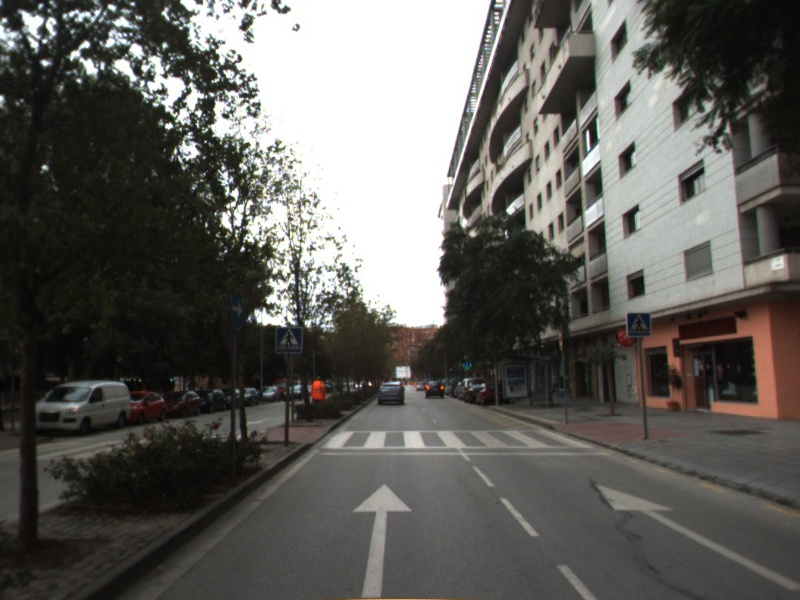STRAIGHT: (590, 480, 800, 591), (349, 480, 416, 599)
